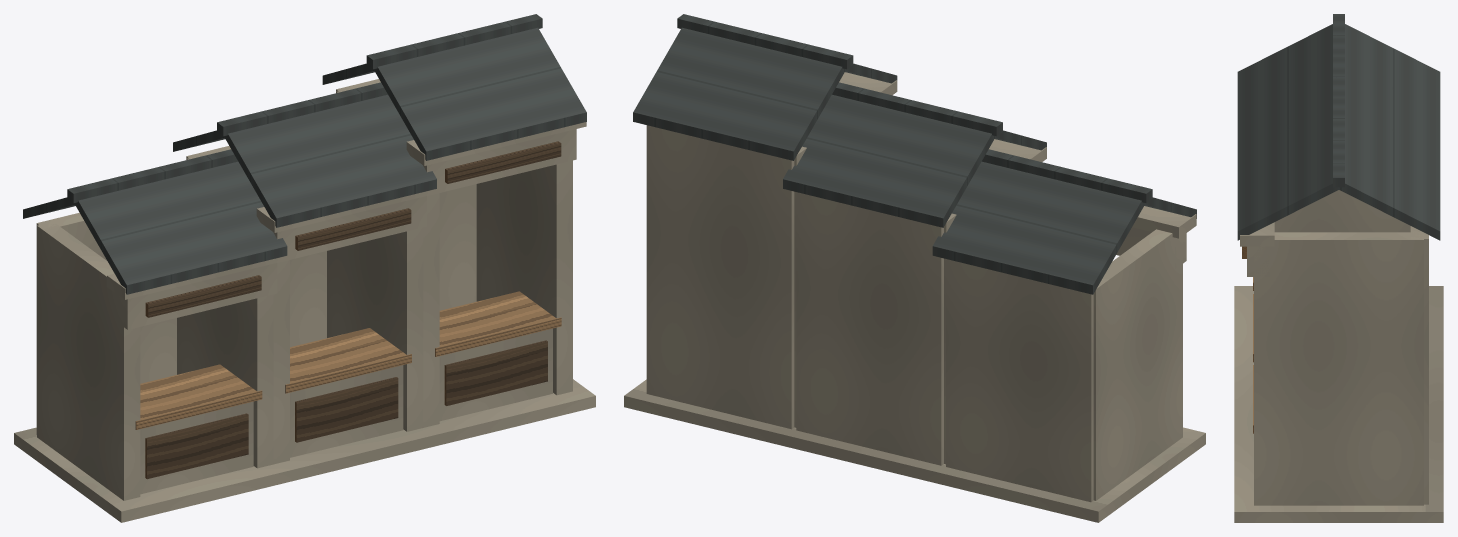
The picture shows the model from 3 angles, left to right: view 1: azimuth 30°, elevation 25°; view 2: azimuth 150°, elevation 25°; view 3: azimuth 270°, elevation 25°; orthographic projection. The views are drawn at different scales.
Parts seen in each view (by area): view 1: nukualofa; view 2: nukualofa; view 3: nukualofa.
Boxes of the visible parts, <box> form: nukualofa: <box>14,14,595,522</box>; nukualofa: <box>624,14,1205,522</box>; nukualofa: <box>1234,14,1443,522</box>.
Bounding box in the file's own units: 3.52 × 2.5 × 1.38.
1 material, 1 textured.
